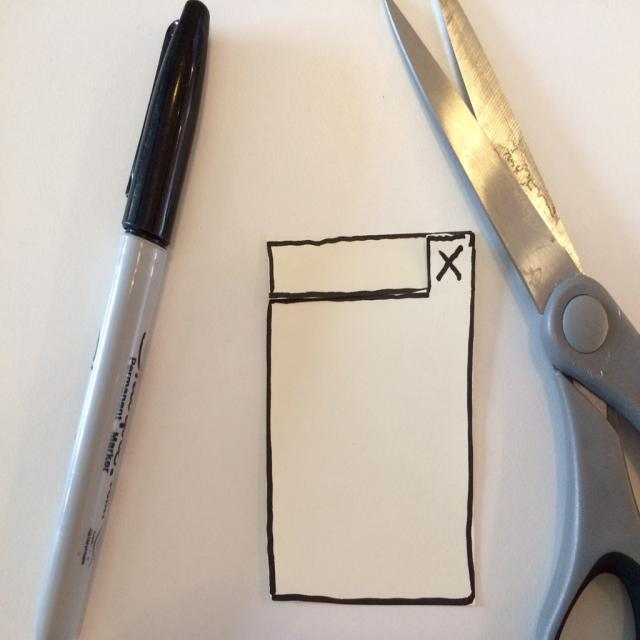scissors: (382, 0, 639, 638)
